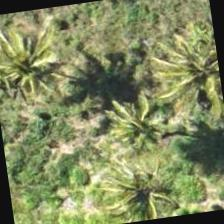Kelapa_Sawit: (87, 82, 189, 183), (0, 21, 85, 123), (86, 139, 187, 223), (148, 17, 223, 116)
